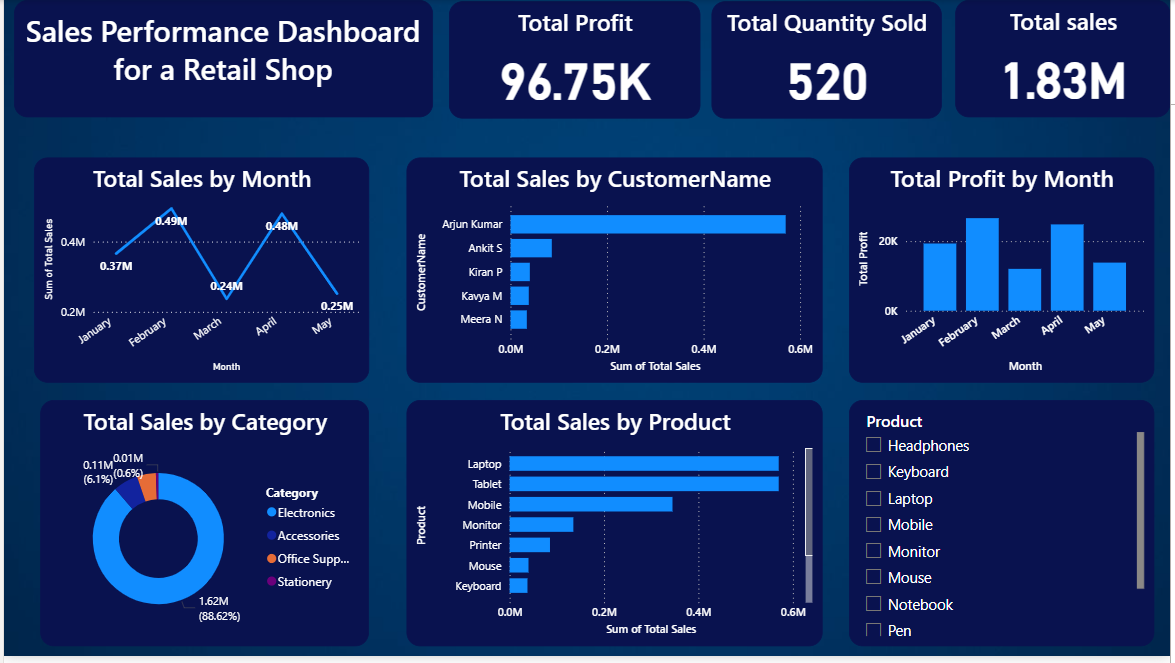

What the dashboard file says about the page in this screenshot:
{"tool":"powerbi","page":{"name":"Page 1","canvas":[1280,720],"ordinal":0},"visuals":[{"type":"card","title":"Total sales","fields":{"Values":["RETAIL_DATA.Total Sales"]},"box":[1044.3,0,236,129],"z":0},{"type":"card","title":"Total Quantity Sold","fields":{"Values":["RETAIL_DATA.Total Quantity sold"]},"box":[776.7,1.4,252.5,129],"z":1000},{"type":"card","title":"Total Profit","fields":{"Values":["RETAIL_DATA.Total Profit"]},"box":[488.5,1.4,275.8,129],"z":2000},{"type":"lineChart","title":"Total Sales by Month","fields":{"Category":["RETAIL_DATA.OrderDate.Variation.Date Hierarchy.Month"],"Y":["RETAIL_DATA.Total Sales"]},"box":[32.9,172.9,367.8,247],"z":3000},{"type":"donutChart","title":"Total Sales by Category","fields":{"Category":["RETAIL_DATA.Category"],"Y":["RETAIL_DATA.Total Sales"]},"box":[39.8,439.1,360.9,270.3],"z":4000},{"type":"slicer","fields":{"Values":["RETAIL_DATA.Product"]},"box":[927.6,439.1,334.8,270.3],"z":5000},{"type":"textbox","box":[11,0,459.7,129],"z":6000},{"type":"barChart","title":" Total Sales by Product","fields":{"Category":["RETAIL_DATA.Product"],"Y":["RETAIL_DATA.Total Sales"]},"box":[441.9,439.1,456.9,270.3],"z":7000},{"type":"lineClusteredColumnComboChart","fields":{"Category":["RETAIL_DATA.OrderDate.Variation.Date Hierarchy.Month"],"Y":["RETAIL_DATA.Total Profit"]},"box":[927.6,172.9,334.8,247],"z":8001},{"type":"clusteredBarChart","title":"Total Sales by CustomerName","fields":{"Y":["RETAIL_DATA.Total Sales"],"Category":["RETAIL_DATA.CustomerName"]},"box":[441.9,172.9,456.9,247],"z":8002}]}

Visuals, with their boxes in screenshot pixels (x1, y1, x2, y2), scaled from the page's 1280x720 canvas onto the 1175x663 screenshot:
"Total sales" card: box(959, 0, 1174, 119)
"Total Quantity Sold" card: box(713, 1, 945, 120)
"Total Profit" card: box(448, 1, 702, 120)
"Total Sales by Month" lineChart: box(30, 159, 368, 387)
"Total Sales by Category" donutChart: box(37, 404, 368, 653)
slicer - RETAIL_DATA.Product: box(852, 404, 1159, 653)
textbox: box(10, 0, 432, 119)
" Total Sales by Product" barChart: box(406, 404, 825, 653)
lineClusteredColumnComboChart - RETAIL_DATA.OrderDate.Variation.Date Hierarchy.Month x RETAIL_DATA.Total Profit: box(852, 159, 1159, 387)
"Total Sales by CustomerName" clusteredBarChart: box(406, 159, 825, 387)
